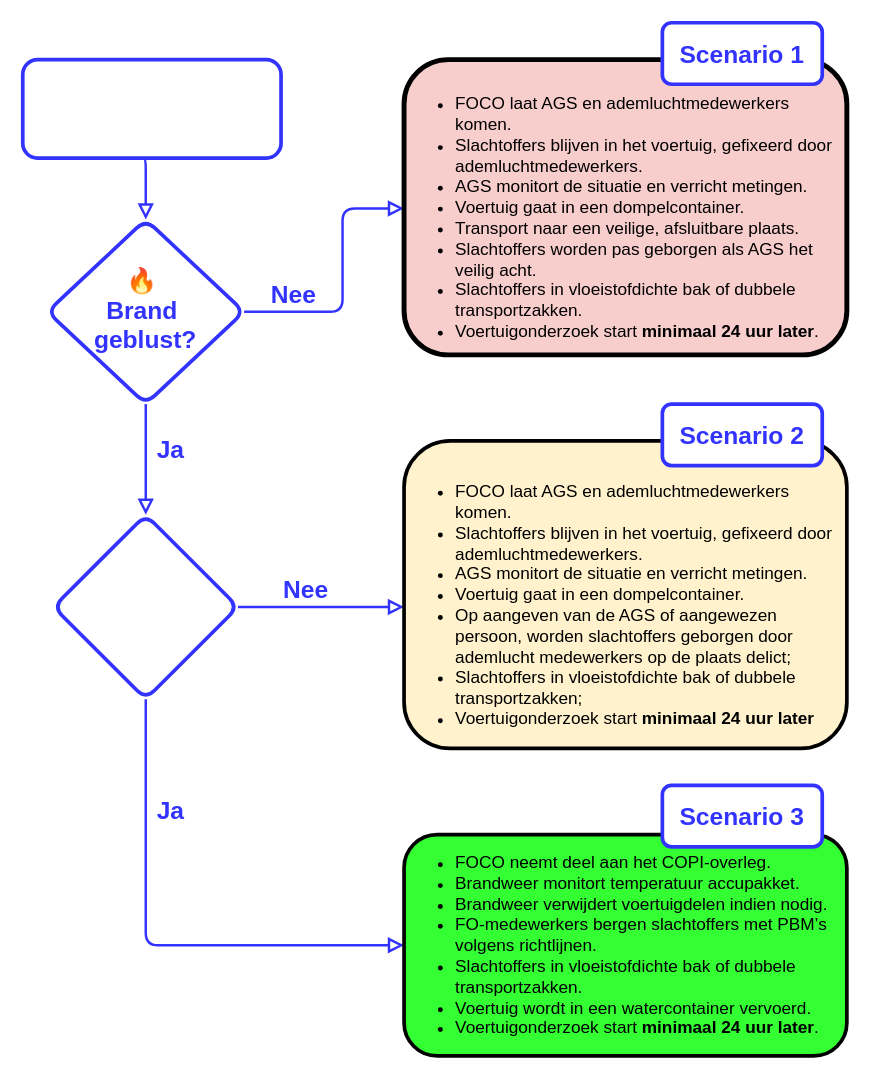
This 871x1079 diagram has some shape labels left out. The shapes that lost their labels are listed below. From the top down, each one's centre as x and y in pixels, then its label:
(x=151, y=108): 🔥 ⚡ EV-brand met slachtoffers
(x=145, y=606): ⚡ Accupakket stabiel?
